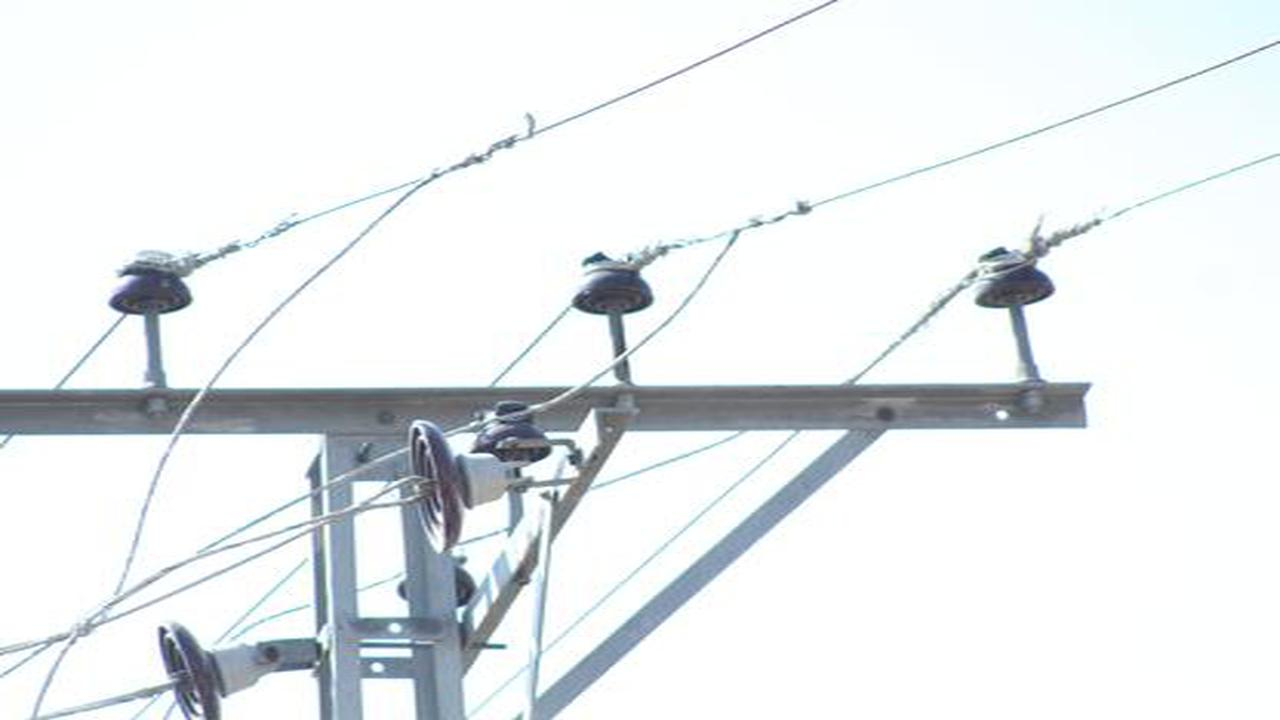insulator_disc: (403, 416, 488, 558), (150, 619, 257, 709)
insulator_pin: (107, 245, 196, 320), (570, 247, 657, 319), (969, 242, 1057, 312), (477, 407, 553, 465)
